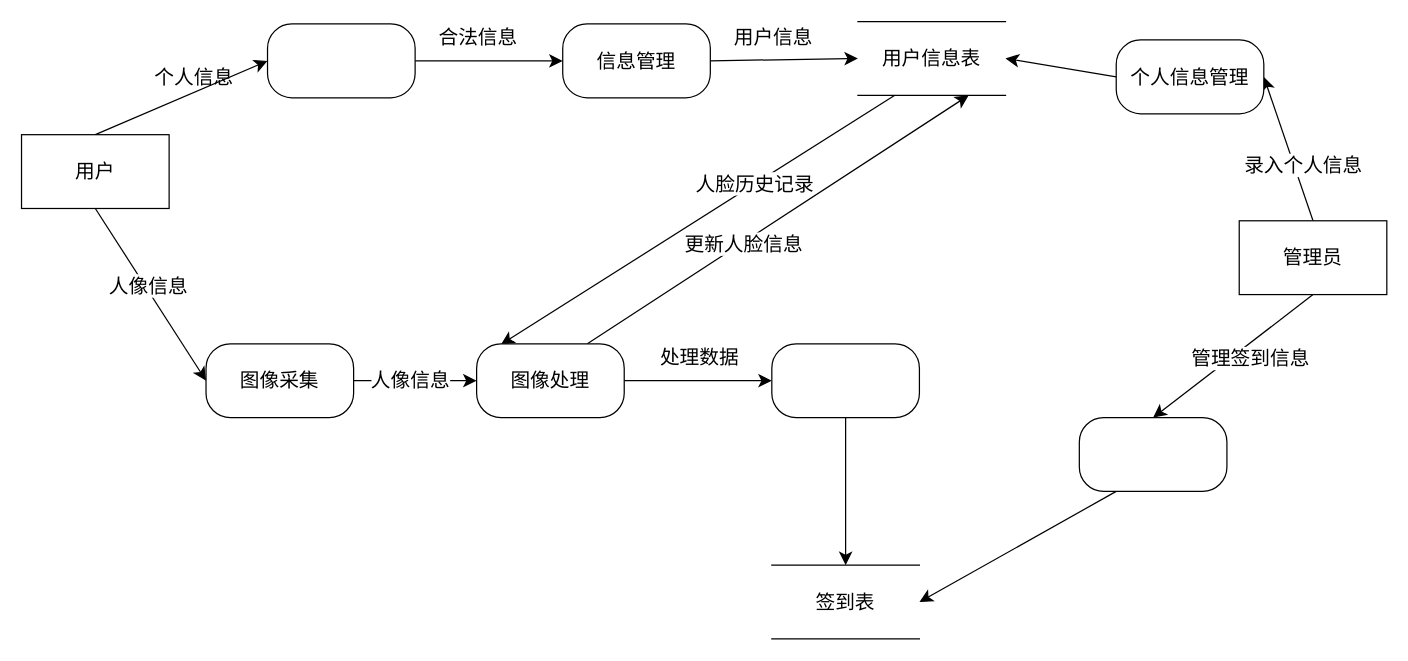
This 1408x661 diagram has some shape labels left out. Here are the shapes that lost their labels. From the top down, the box of each, then its label:
(266, 23, 415, 98): 1.信息处理
(771, 343, 919, 418): 签到处理
(1078, 416, 1227, 491): 签到管理
